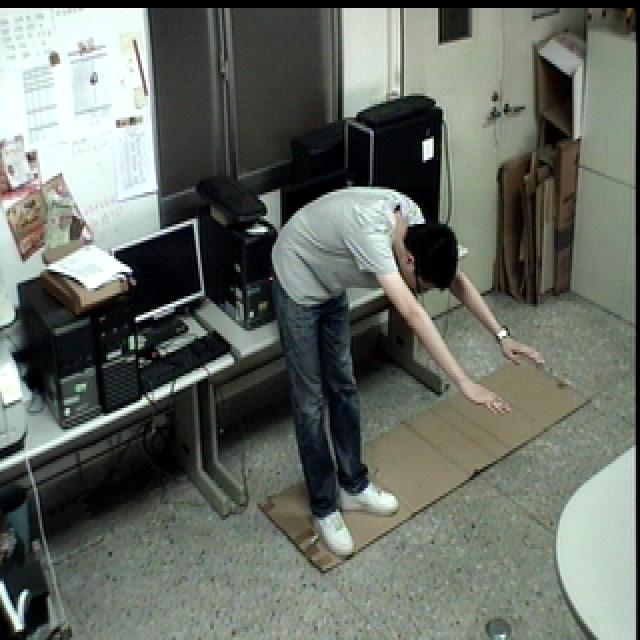bend: (265, 176, 552, 562)
